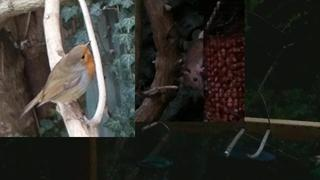mouse: (179, 40, 205, 90)
robin: (18, 40, 95, 123)
